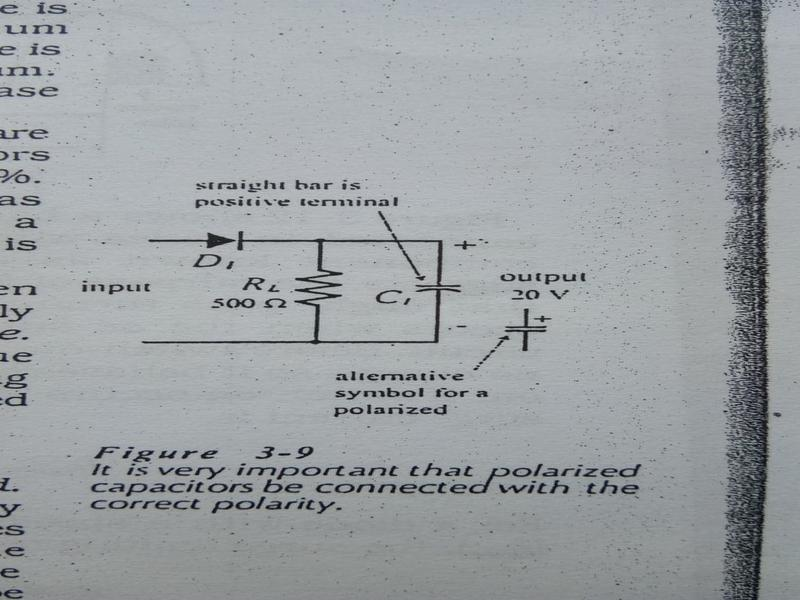capacitor: (407, 262, 471, 315)
diode: (194, 220, 255, 258)
resistor: (289, 255, 347, 329)
